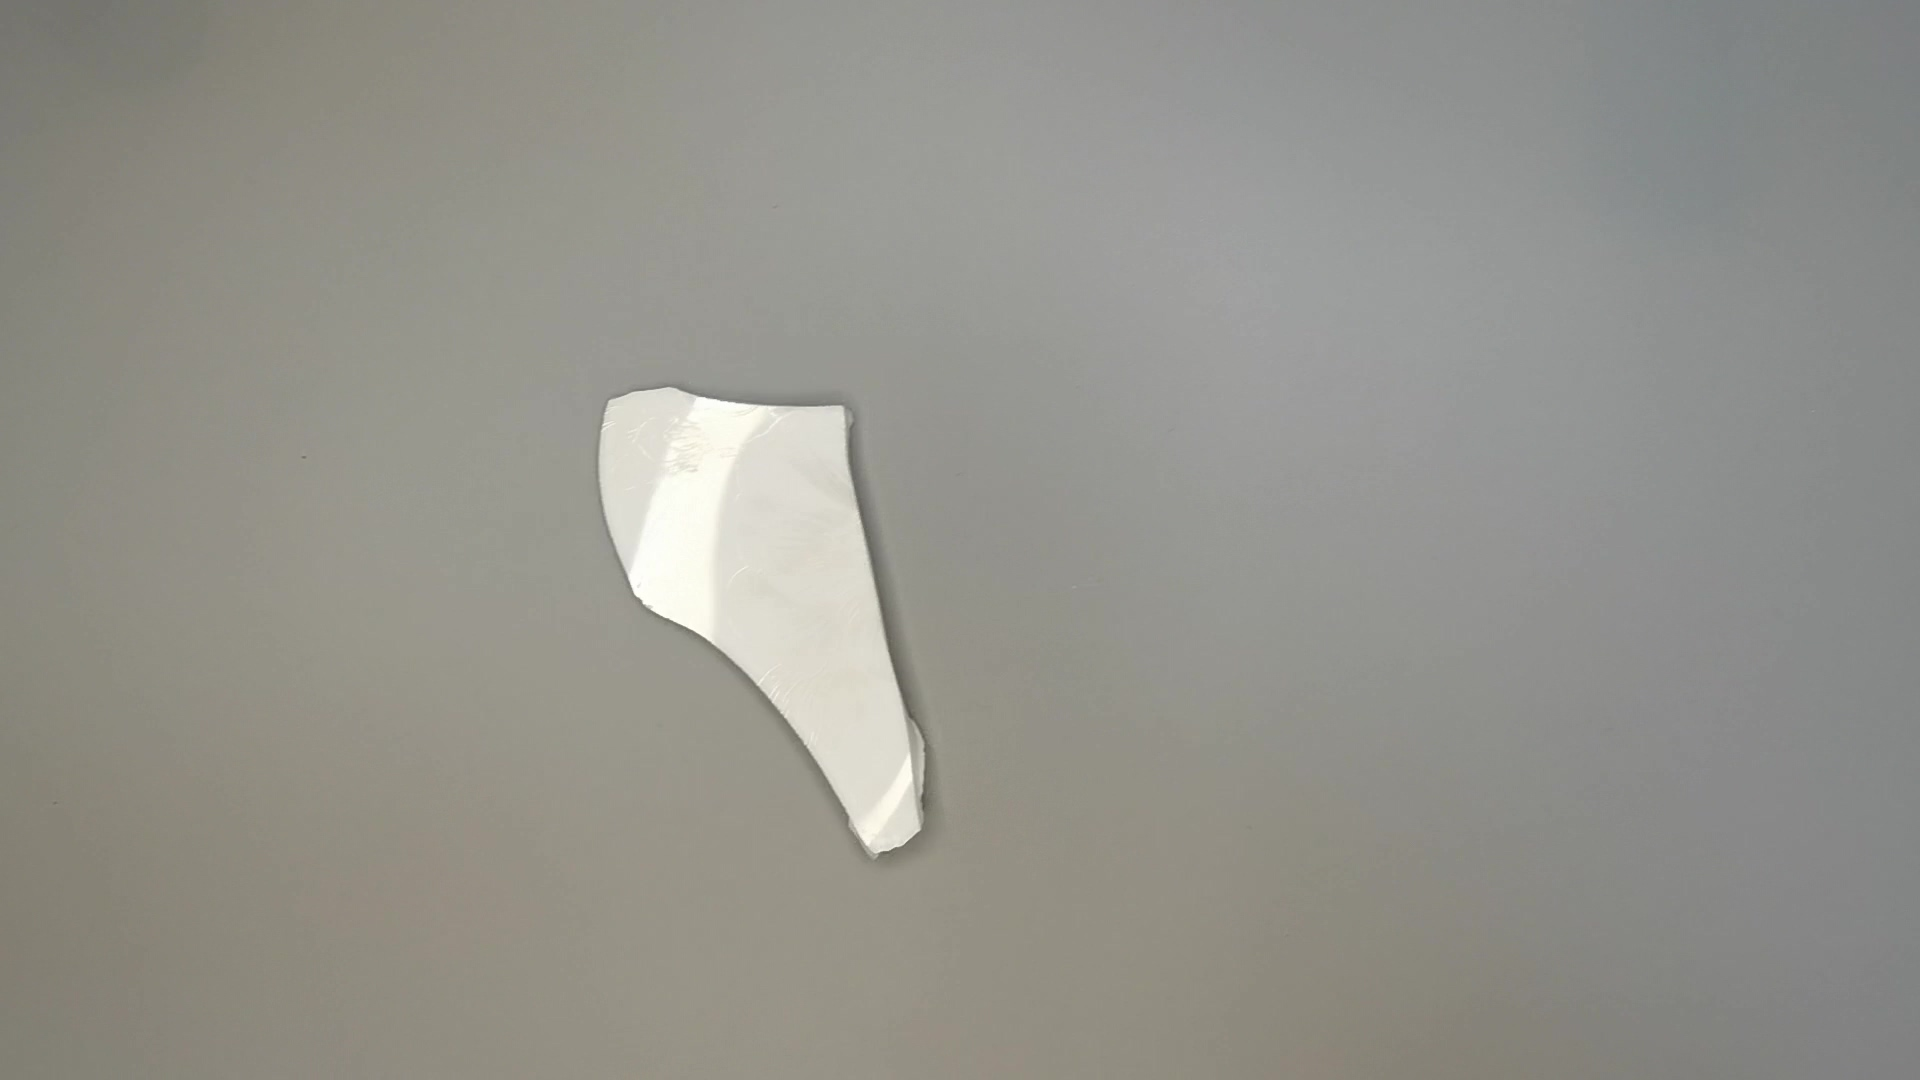ceramic: (593, 378, 944, 860)
